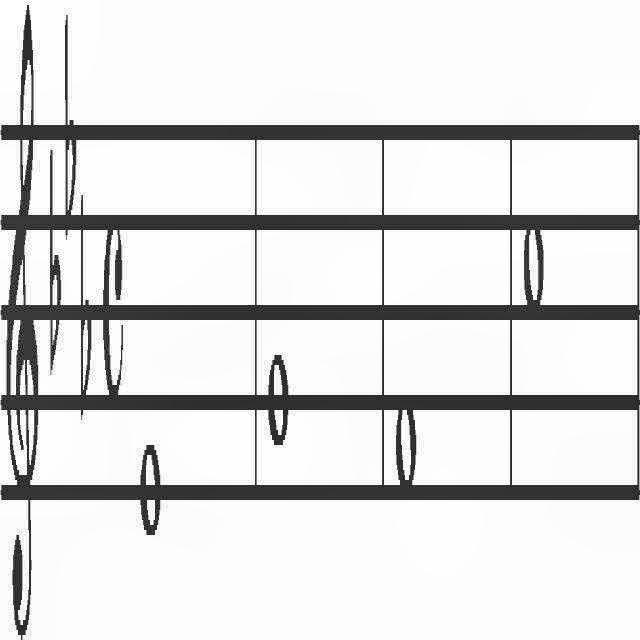Bass-clef: (6, 8, 38, 640)
Bemol: (46, 116, 62, 384), (80, 180, 92, 432), (64, 2, 76, 236)
Full-note: (138, 435, 162, 551), (522, 202, 546, 314), (267, 341, 289, 459), (394, 391, 418, 489)
